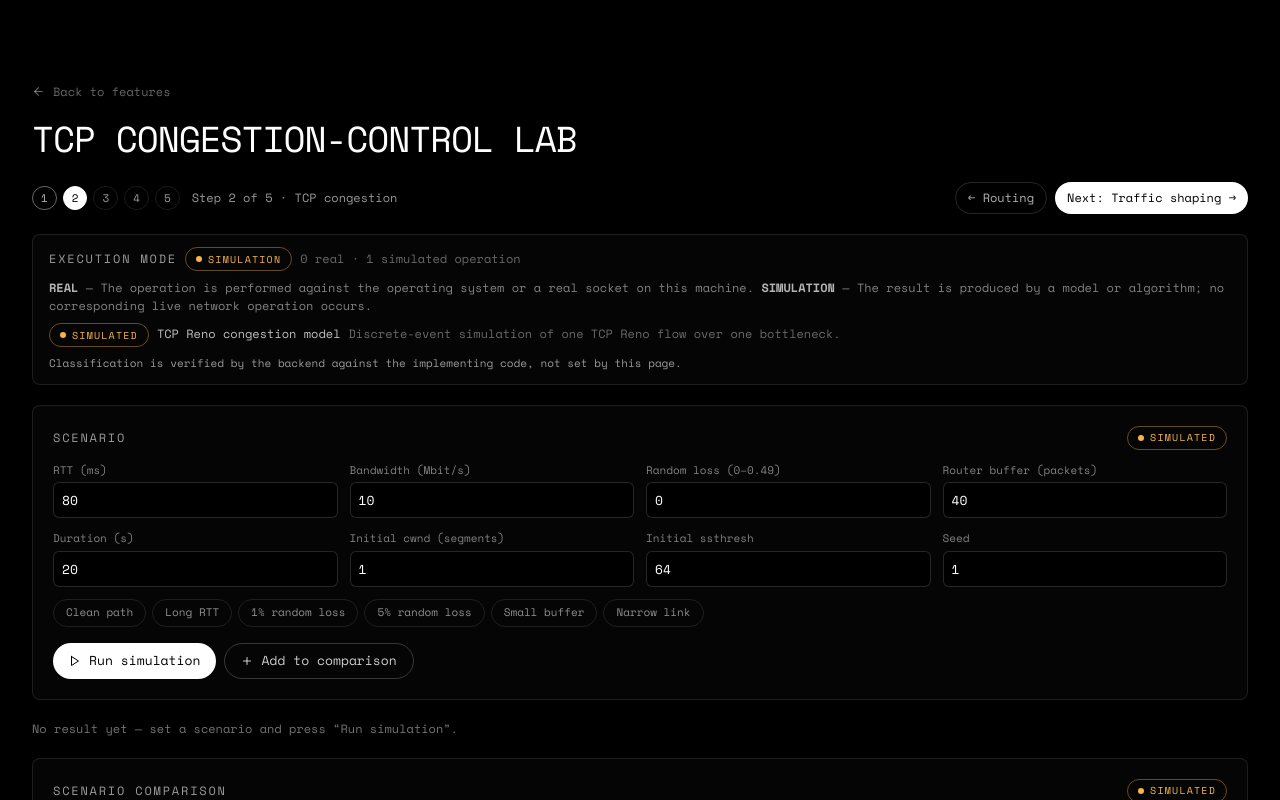
TCP congestion lab › presets replace the whole scenario
Click the button "5% random loss" at (425, 612), box [364,598,485,626]
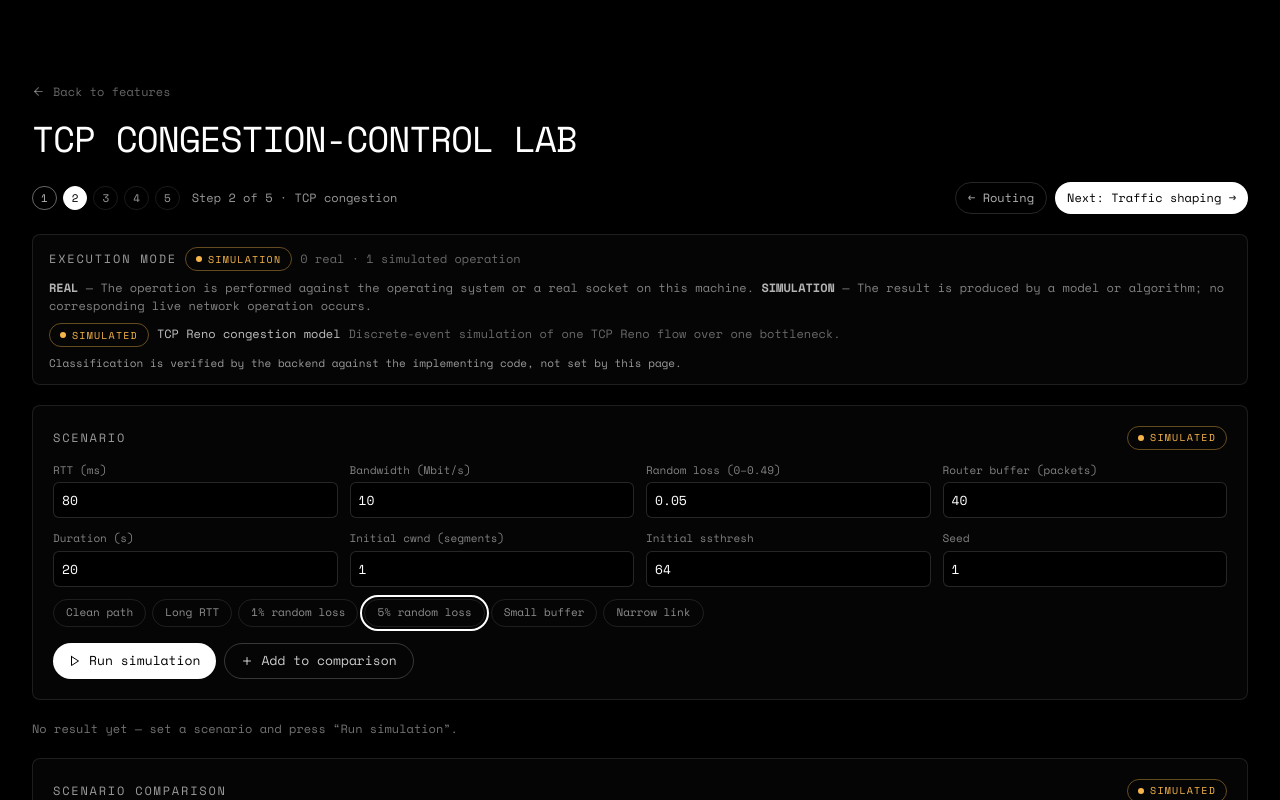
Check: the number field labelled "Random loss (0–0.49)" holds "0.05", box [646,482,930,518]
